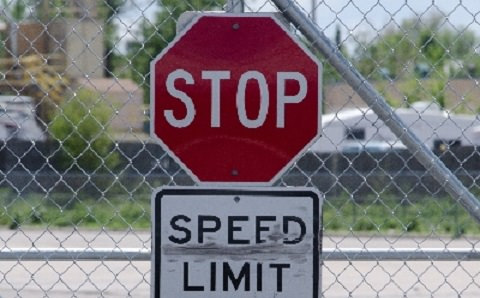stop_sign: (149, 13, 324, 187)
